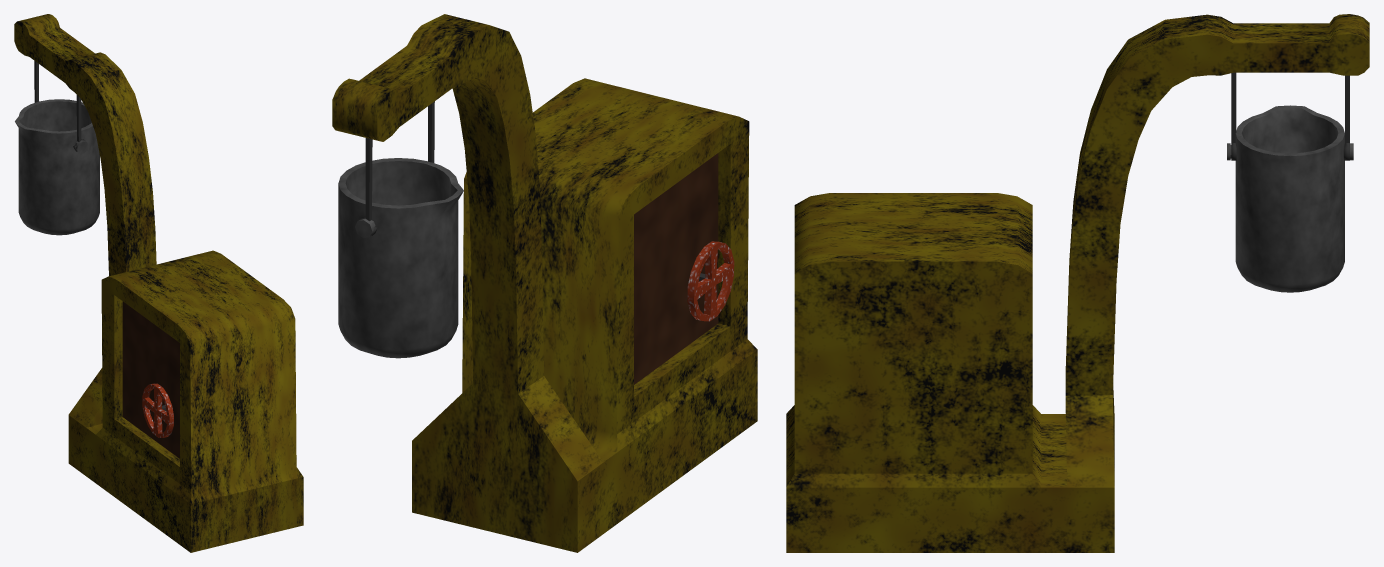
File: cauldron.fbx
The picture shows the model from 3 angles, left to right: view 1: azimuth 30°, elevation 25°; view 2: azimuth 150°, elevation 25°; view 3: azimuth 270°, elevation 25°; orthographic projection. The views are drawn at different scales.
Parts seen in each view (by area): view 1: machine, cauldron, valve, hanger; view 2: machine, cauldron, valve, hanger; view 3: machine, cauldron, hanger.
Part boxes in pixels (x1,y1,x2,y2): machine: [14, 14, 303, 552]; cauldron: [15, 99, 99, 235]; valve: [142, 383, 173, 437]; hanger: [34, 61, 85, 151]; machine: [332, 14, 757, 552]; cauldron: [338, 158, 463, 358]; valve: [687, 241, 734, 321]; hanger: [359, 101, 434, 235]; machine: [786, 14, 1369, 552]; cauldron: [1227, 105, 1353, 292]; hanger: [1231, 72, 1349, 160].
Size of the model in its own units: 1.95 by 5.92 by 6.36.
Materials: 1 (1 with a texture image).
